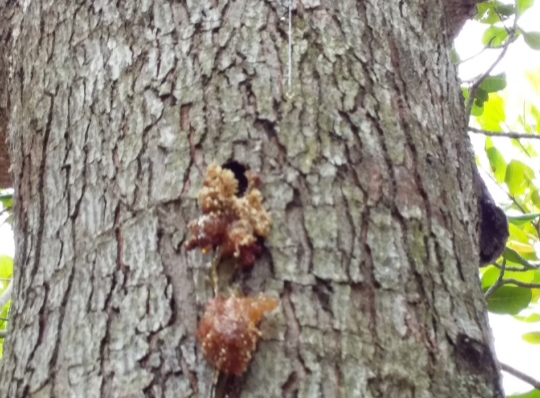Apate terebrans: (189, 153, 285, 369)
